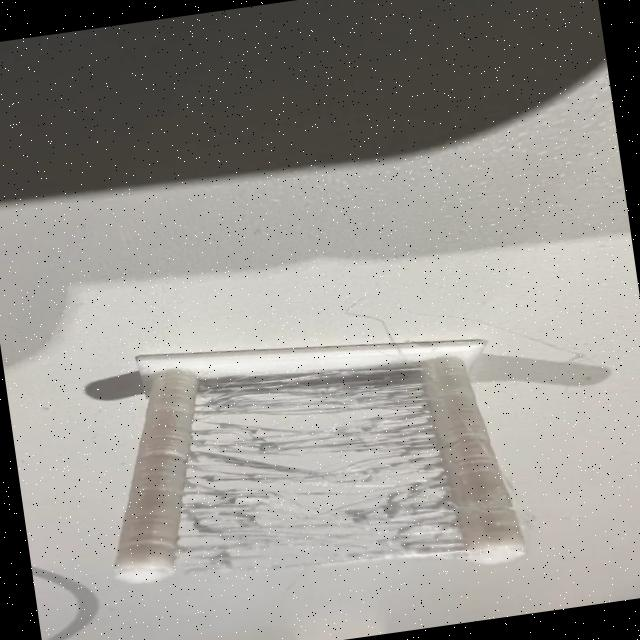stringing: (182, 373, 463, 572)
